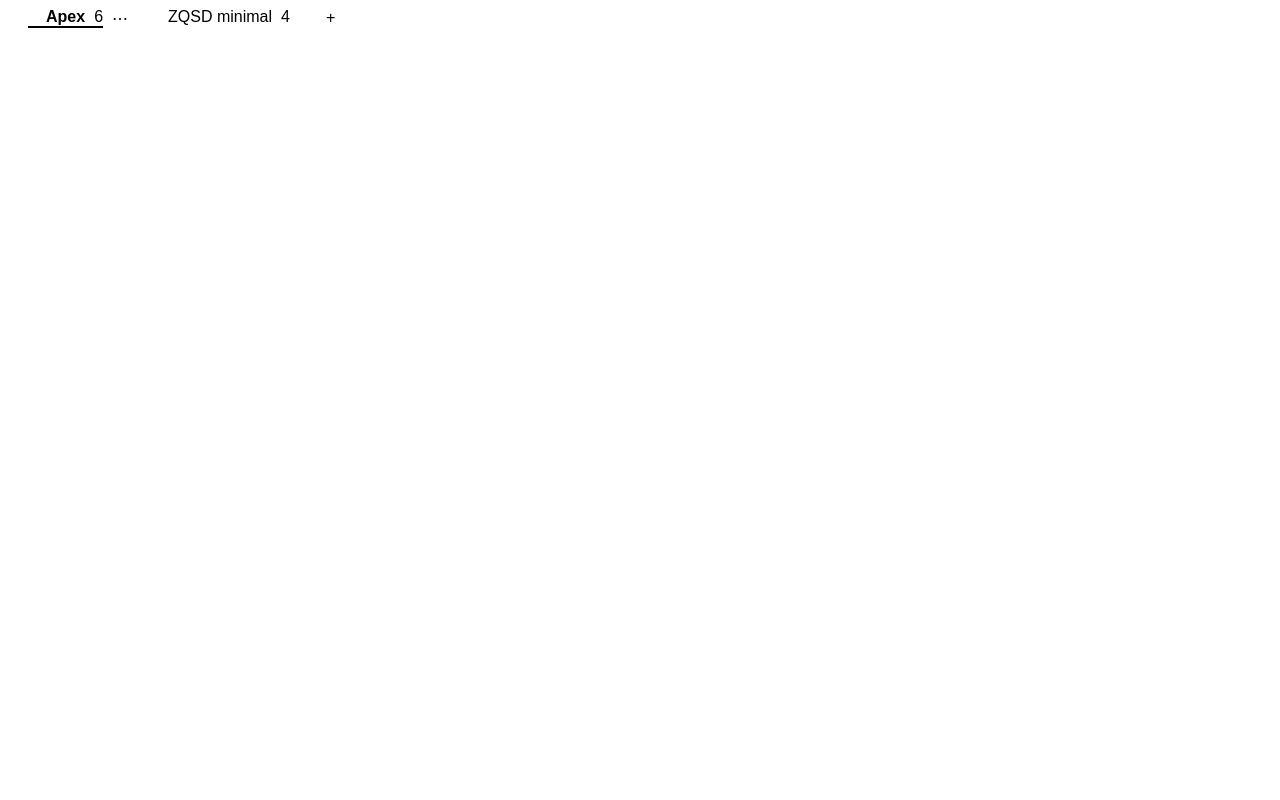
Test: the + menu › opens under the plus, with the focus inside
Click the button "+": [331, 18] box [312,8,349,28]
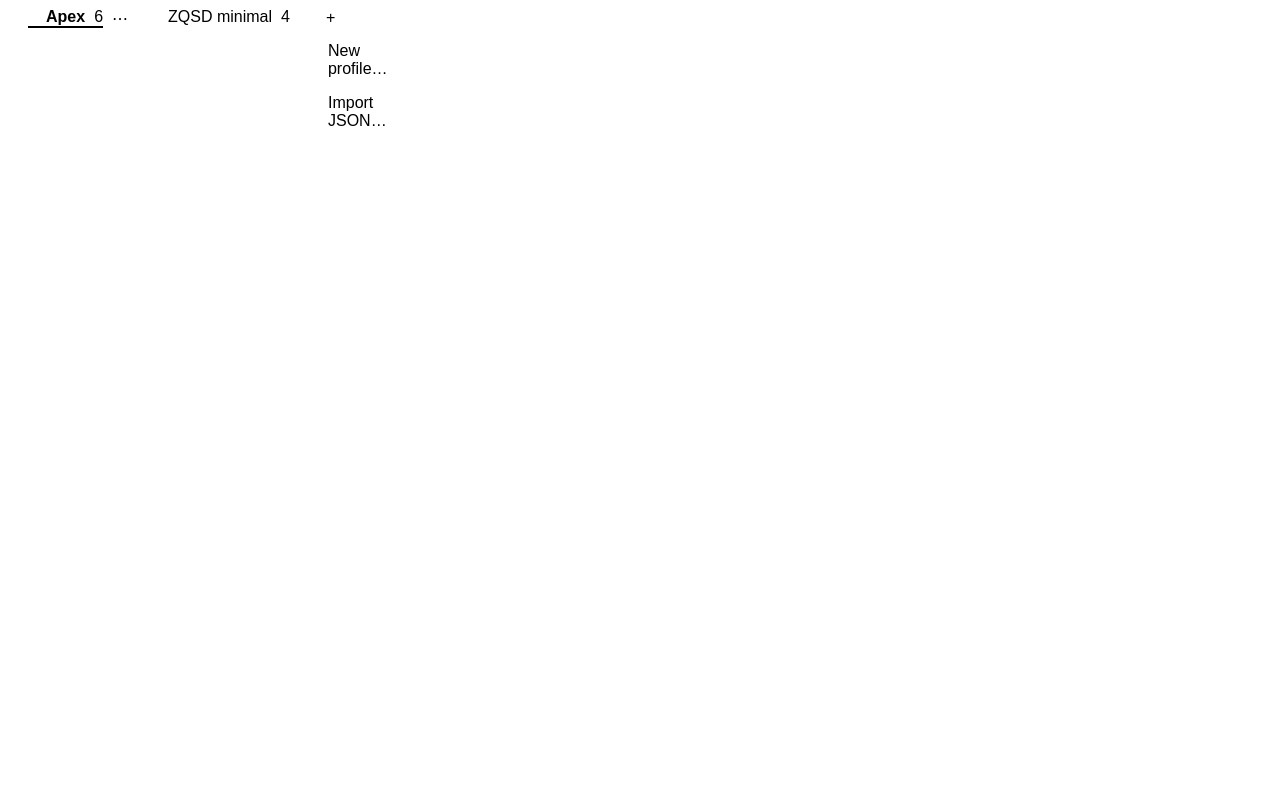
Now the dialog is shown, box [312,28,404,144]
